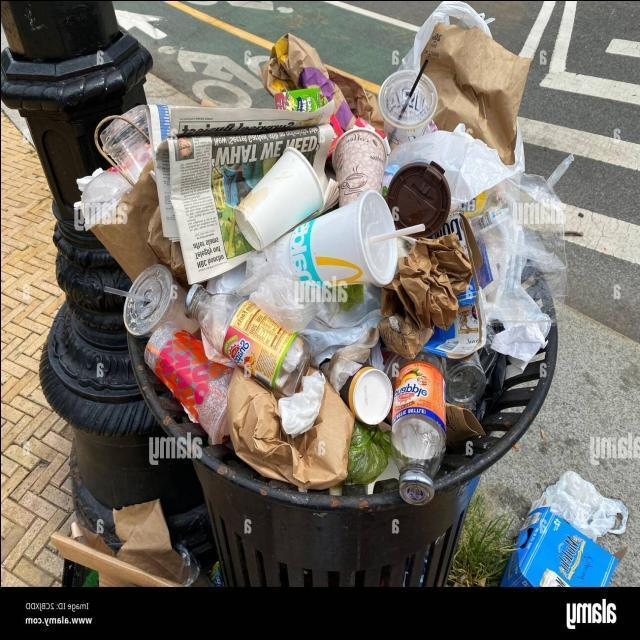Disposable: (264, 189, 396, 285), (144, 320, 232, 442), (234, 146, 322, 249), (122, 264, 199, 335), (385, 160, 450, 235), (378, 69, 436, 147), (331, 127, 385, 206), (99, 117, 150, 181), (339, 365, 392, 424), (80, 169, 131, 229), (444, 351, 485, 404), (122, 104, 148, 134)
Garbage: (75, 0, 570, 504)
Glass_bottle: (184, 284, 310, 395), (390, 352, 445, 504)
Plastic_Bag: (469, 172, 565, 366), (386, 122, 524, 206), (301, 282, 382, 391), (234, 244, 319, 330), (396, 0, 492, 72), (278, 369, 325, 436), (344, 420, 390, 484), (475, 342, 506, 420)
Plastic_Straw: (398, 58, 428, 117), (368, 223, 425, 243), (102, 285, 150, 301)
Plastic_wraper: (422, 275, 485, 356)
Tetrapack: (274, 85, 321, 111)
